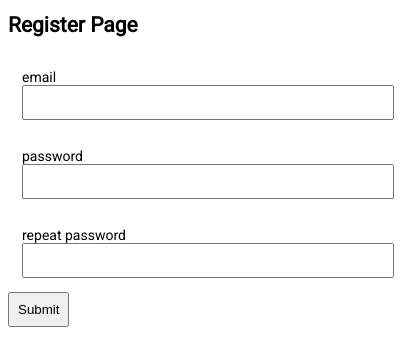
Scenario: Integration::Registration › should display mismatched password error
Type "foo22@bar.com" into the field with test id "email". click: (208, 102)
box: [22,85,394,120]
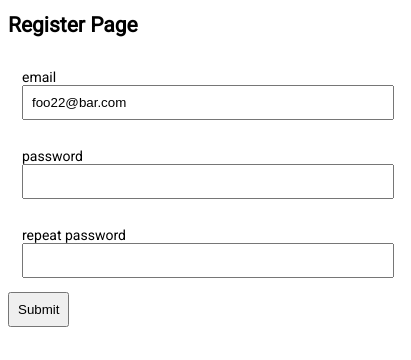
Type "abce" into the password field with test id "password". click: (208, 181)
box: [22,164,394,199]
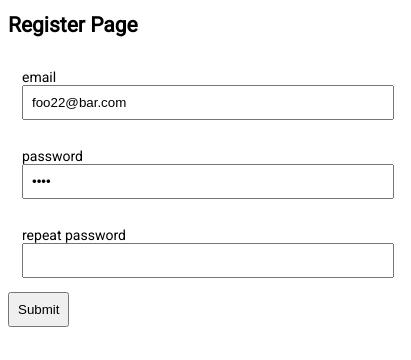
Type "abcd" into the password field with test id "password2". click: (208, 260)
box: [22,243,394,278]
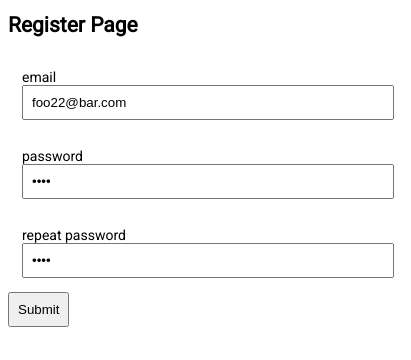
Click the button "Submit". click: (39, 309)
box: [8,292,70,327]
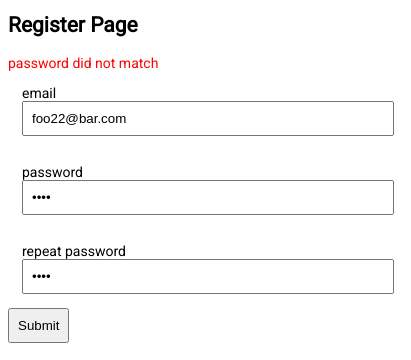
Check: the text with test id "errors" shows "did not match", box [8,55,158,71]
